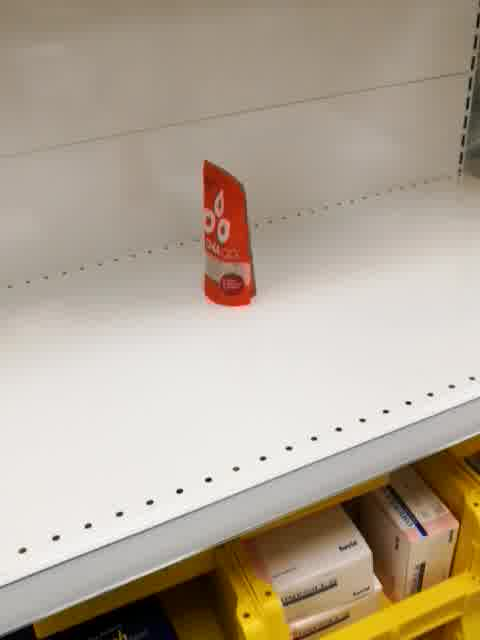whitechia: (198, 158, 258, 308)
